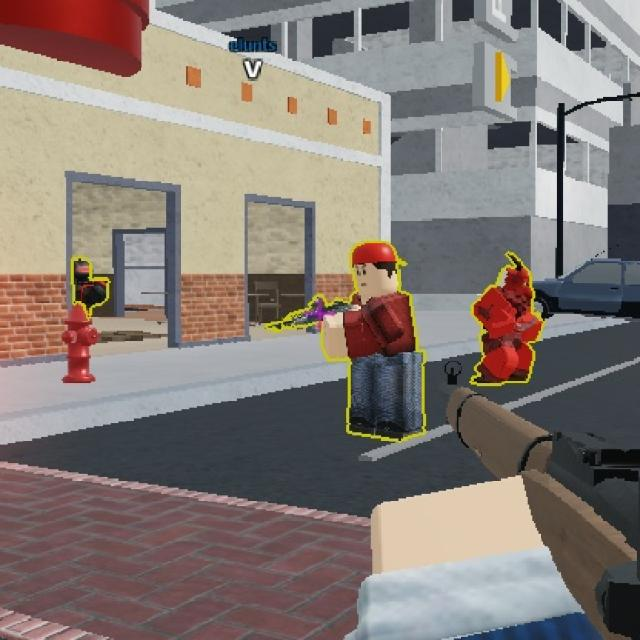player: (332, 238, 427, 442), (471, 251, 541, 388), (74, 253, 108, 320)
